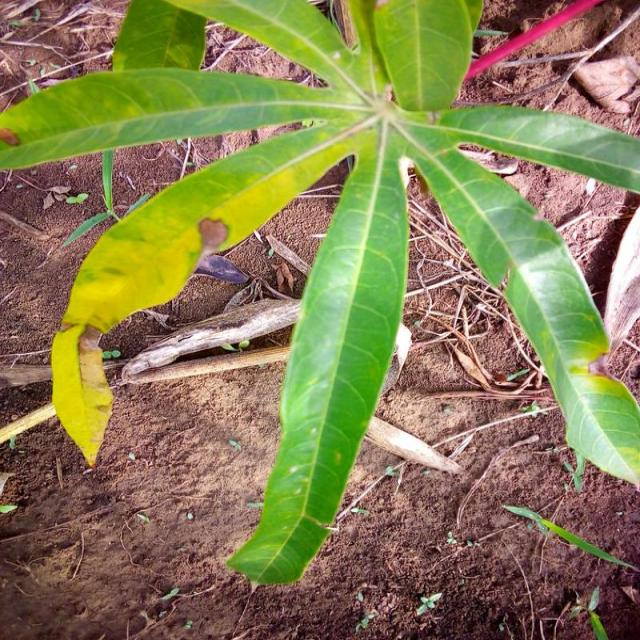cassava leaf: (2, 0, 640, 586), (226, 120, 411, 586)
